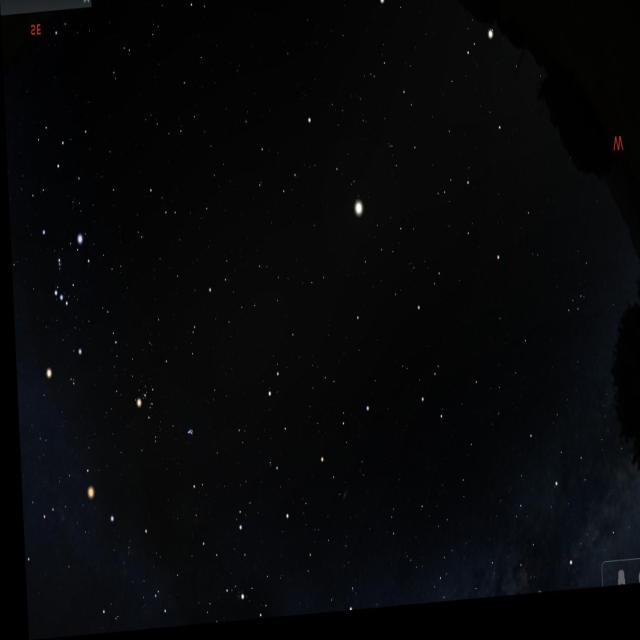cygnus: (518, 423, 634, 603)
orion: (21, 217, 99, 389)
pleiades: (178, 415, 197, 448)
taurus: (128, 350, 196, 460)
